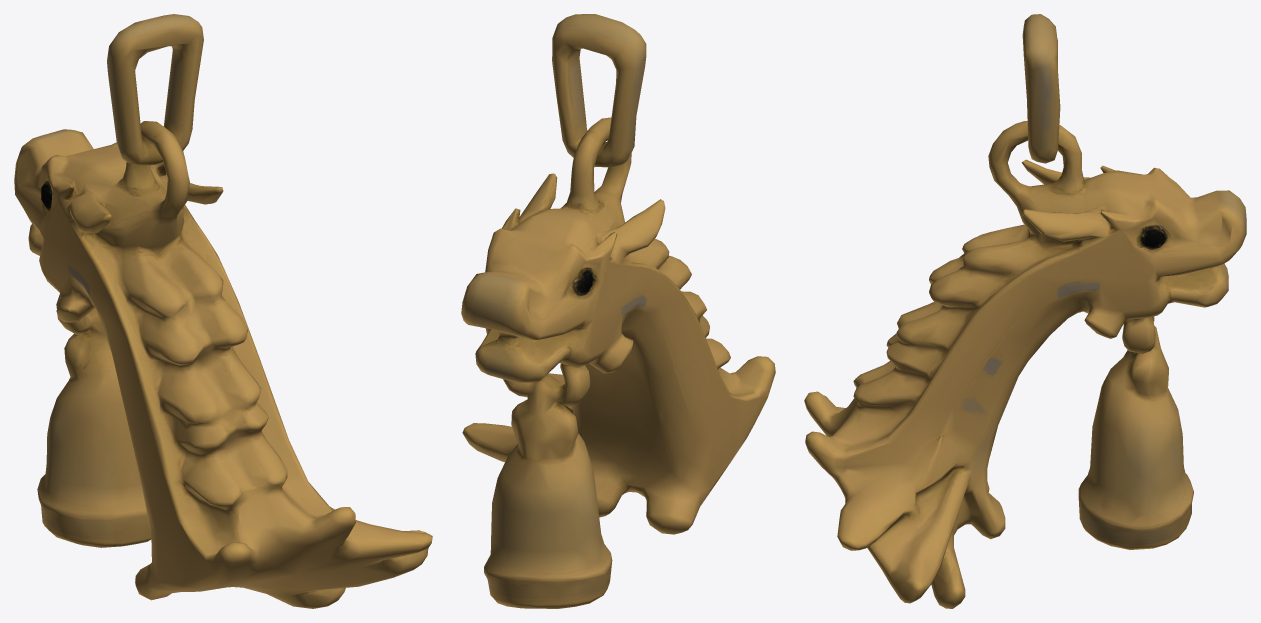
Rendered from caurongcharm.glb.
3 renders of one model, left to right at view 1: azimuth 30°, elevation 25°; view 2: azimuth 150°, elevation 25°; view 3: azimuth 270°, elevation 25°, orthographic. The views are drawn at different scales.
Visible parts, largest first — view 1: tripo_node_36386e8d-2608-4cdc-a011-3171bb04b525; view 2: tripo_node_36386e8d-2608-4cdc-a011-3171bb04b525; view 3: tripo_node_36386e8d-2608-4cdc-a011-3171bb04b525.
Boxes of the visible parts, left/top/right/bottom form: tripo_node_36386e8d-2608-4cdc-a011-3171bb04b525: left=14, top=14, right=432, bottom=608; tripo_node_36386e8d-2608-4cdc-a011-3171bb04b525: left=461, top=14, right=775, bottom=608; tripo_node_36386e8d-2608-4cdc-a011-3171bb04b525: left=804, top=14, right=1246, bottom=608.
Size of the model in its own units: 0.4883 by 0.998 by 0.7559.
1 material, 1 textured.
